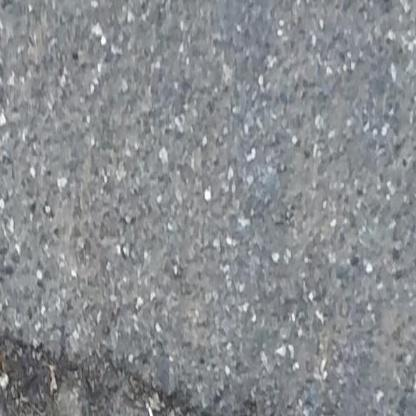Cracks: (0, 323, 323, 416)
